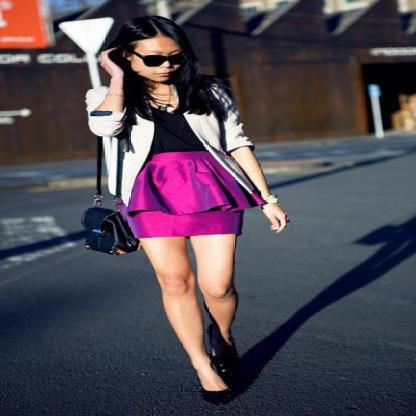bag: (68, 125, 160, 254)
jacket: (85, 92, 254, 207)
shirt: (146, 108, 207, 158)
shoe: (201, 324, 242, 405)
skirt: (122, 151, 267, 239)
sunglass: (138, 53, 167, 66)
